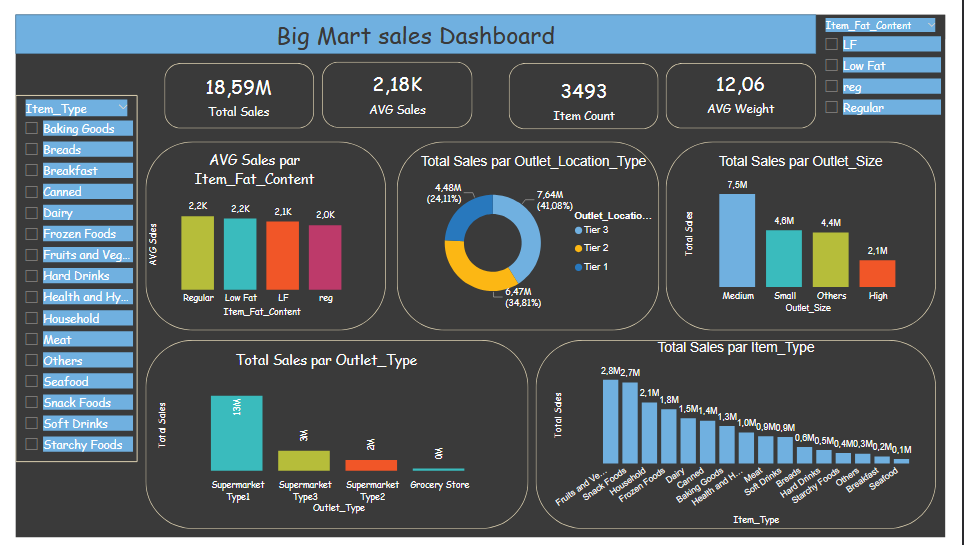

This screenshot's page, from the dashboard's own definition file:
{"tool":"powerbi","page":{"name":"Page 1","canvas":[1280,720],"ordinal":0},"visuals":[{"type":"shape","box":[0,0,1101.6,54],"z":1000},{"type":"shape","box":[204.8,66.7,206.3,90.5],"z":2000},{"type":"shape","box":[422.2,65.1,206.3,90.5],"z":3000},{"type":"shape","box":[678.6,67.2,206.6,90.7],"z":4000},{"type":"shape","box":[895.2,66.7,206.3,90.5],"z":7000},{"type":"shape","box":[179.4,174.6,330.2,260.3],"z":8000},{"type":"shape","box":[525.4,174.6,360.3,260.3],"z":9000},{"type":"shape","box":[895.2,174.6,371.4,260.3],"z":10000},{"type":"shape","box":[179.4,447.6,527,260.3],"z":11000},{"type":"shape","box":[715.9,447.6,550.8,260.3],"z":12000},{"type":"slicer","fields":{"Values":["BigMart_cleaned.Item_Fat_Content"]},"box":[1101.6,0,177.8,158.7],"z":13000},{"type":"clusteredColumnChart","fields":{"Category":["BigMart_cleaned.Item_Type"],"Y":["BigMart_cleaned.Total Sales"]},"box":[736.5,447.6,509.5,260.3],"z":14000},{"type":"donutChart","fields":{"Category":["BigMart_cleaned.Outlet_Location_Type"],"Y":["BigMart_cleaned.Total Sales"]},"box":[539.7,192.1,346,223.8],"z":15000},{"type":"clusteredColumnChart","fields":{"Category":["BigMart_cleaned.Outlet_Size"],"Y":["BigMart_cleaned.Total Sales"]},"box":[917.5,192.1,327,223.8],"z":16000},{"type":"clusteredColumnChart","fields":{"Y":["BigMart_cleaned.AVG Sales"],"Category":["BigMart_cleaned.Item_Fat_Content"]},"box":[179.4,185.7,300,236.5],"z":17000},{"type":"clusteredColumnChart","fields":{"Category":["BigMart_cleaned.Outlet_Type"],"Y":["BigMart_cleaned.Total Sales"]},"box":[192.1,461.9,471.4,230.2],"z":18000},{"type":"slicer","fields":{"Values":["BigMart_cleaned.Item_Type"]},"box":[0,111.1,168.3,504.8],"z":19000},{"type":"card","fields":{"Values":["BigMart_cleaned.AVG Sales"]},"box":[428.6,66.7,193.7,82.5],"z":20000},{"type":"card","fields":{"Values":["BigMart_cleaned.Total Sales"]},"box":[198.4,69.8,217.5,82.5],"z":20500},{"type":"card","fields":{"Values":["BigMart_cleaned.Item Count"]},"box":[670.2,75.6,225.1,82.3],"z":21000},{"type":"card","fields":{"Values":["BigMart_cleaned.AVG Weight"]},"box":[890.5,63.5,215.9,87.3],"z":21500}]}

Visuals, with their boxes in screenshot pixels (x1, y1, x2, y2), scaled from the page's 1280x720 canvas onto the 964x545 screenshot:
shape: box=[0, 0, 830, 41]
shape: box=[154, 50, 310, 119]
shape: box=[318, 49, 473, 118]
shape: box=[511, 51, 667, 120]
shape: box=[674, 50, 830, 119]
shape: box=[135, 132, 384, 329]
shape: box=[396, 132, 667, 329]
shape: box=[674, 132, 954, 329]
shape: box=[135, 339, 532, 536]
shape: box=[539, 339, 954, 536]
slicer - BigMart_cleaned.Item_Fat_Content: box=[830, 0, 963, 120]
clusteredColumnChart - BigMart_cleaned.Item_Type x BigMart_cleaned.Total Sales: box=[555, 339, 938, 536]
donutChart - BigMart_cleaned.Outlet_Location_Type x BigMart_cleaned.Total Sales: box=[406, 145, 667, 315]
clusteredColumnChart - BigMart_cleaned.Outlet_Size x BigMart_cleaned.Total Sales: box=[691, 145, 937, 315]
clusteredColumnChart - BigMart_cleaned.AVG Sales x BigMart_cleaned.Item_Fat_Content: box=[135, 141, 361, 320]
clusteredColumnChart - BigMart_cleaned.Outlet_Type x BigMart_cleaned.Total Sales: box=[145, 350, 500, 524]
slicer - BigMart_cleaned.Item_Type: box=[0, 84, 127, 466]
card - BigMart_cleaned.AVG Sales: box=[323, 50, 469, 113]
card - BigMart_cleaned.Total Sales: box=[149, 53, 313, 115]
card - BigMart_cleaned.Item Count: box=[505, 57, 674, 120]
card - BigMart_cleaned.AVG Weight: box=[671, 48, 833, 114]
